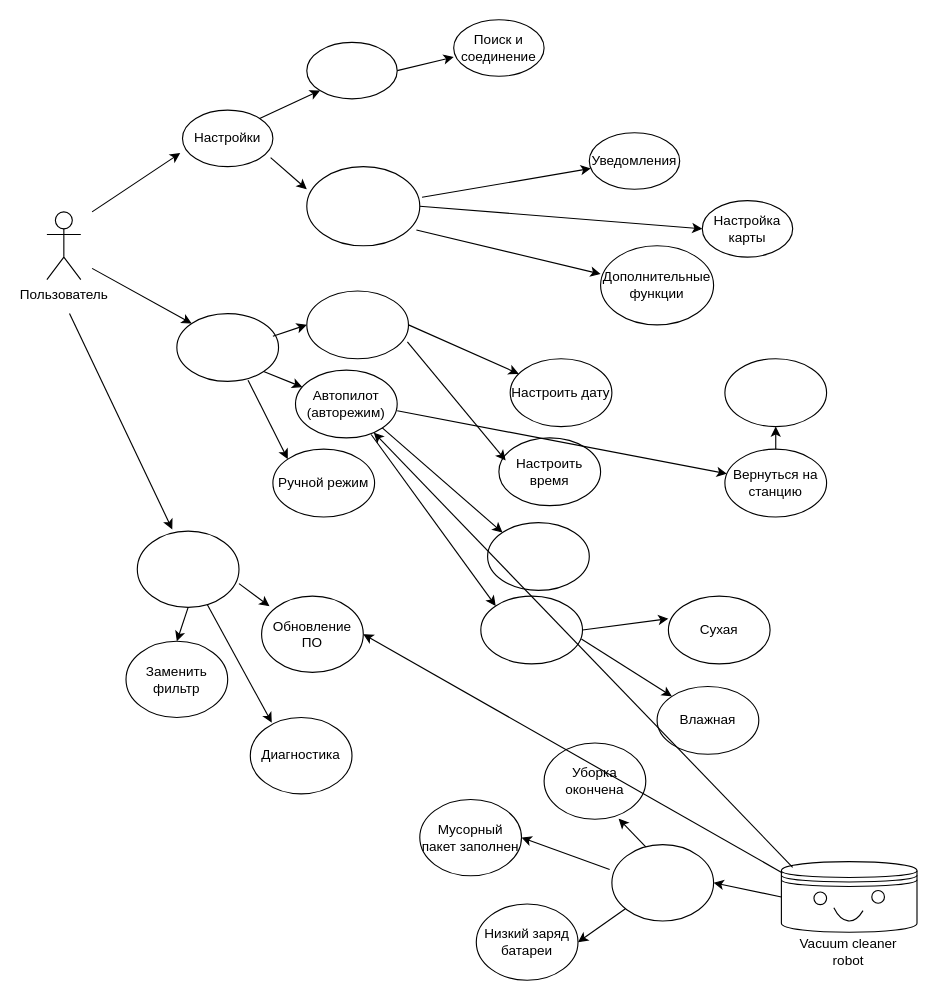
Some shapes in this 937 by 1000 pixel diagram are drawn without their labels. Each missing label, with the centre of its shape:
"Заряд батареи" goes at point (775, 392).
"Обслуживание" goes at point (187, 568).
"При повторном использовании" goes at point (363, 206).
"Расписание" goes at point (357, 324).
"Регистрация" goes at point (351, 70).
"Самоотчистка" goes at point (537, 555).
"Уборка" goes at point (531, 629).
"Уведомление" goes at point (662, 882).
"Управление" goes at point (227, 346).
